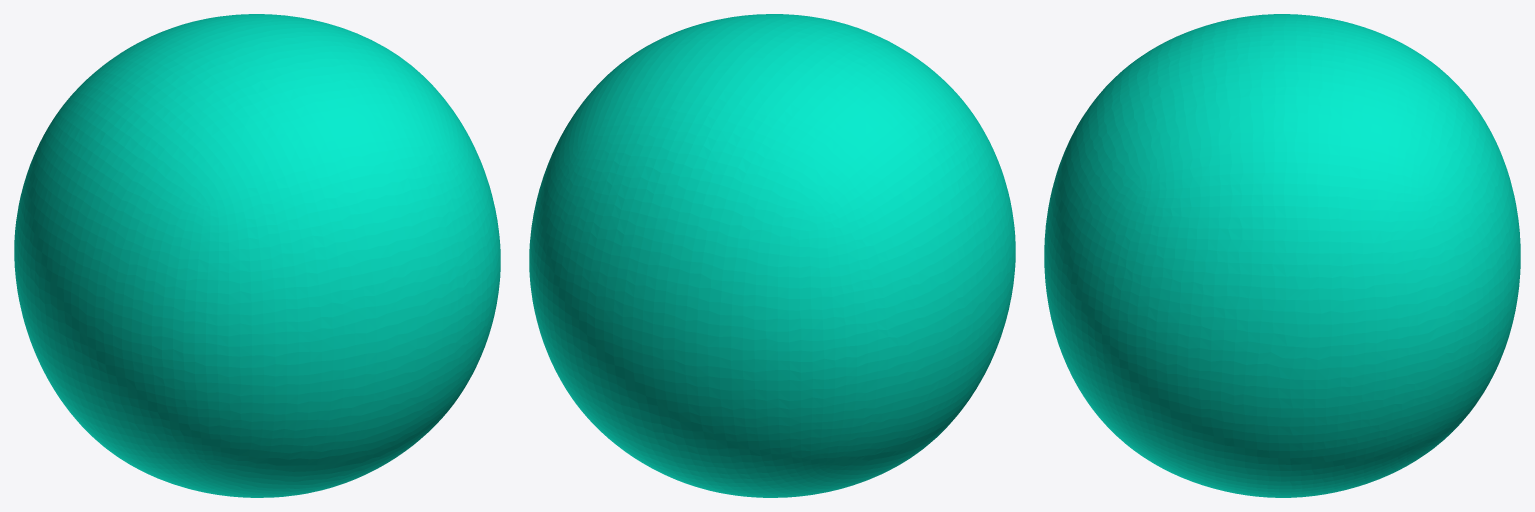
Rendered from Sea09.fbx.
The picture shows the model from 3 angles, left to right: view 1: azimuth 30°, elevation 25°; view 2: azimuth 150°, elevation 25°; view 3: azimuth 270°, elevation 25°; orthographic projection.
Visible parts, largest first — view 1: pCube1; view 2: pCube1; view 3: pCube1.
Part boxes in pixels (x1,y1,x2,y2): pCube1: (14,14,500,497); pCube1: (529,14,1015,497); pCube1: (1044,14,1520,497).
Bounding box in the file's own units: 40.32 × 40.32 × 40.32.
